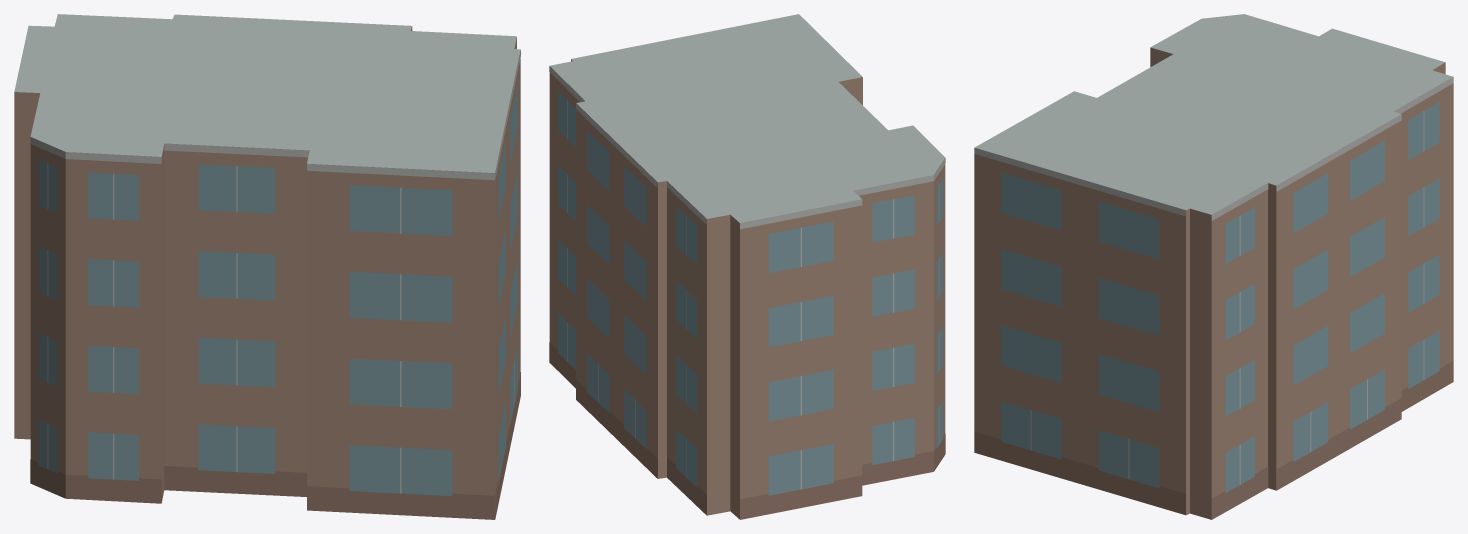
File: survey-upis-32659445.glb
3 renders of one model, left to right at view 1: azimuth 30°, elevation 25°; view 2: azimuth 150°, elevation 25°; view 3: azimuth 270°, elevation 25°, orthographic. The views are drawn at different scales.
Parts seen in each view (by area): view 1: survey-upis-32659445.tmp; view 2: survey-upis-32659445.tmp; view 3: survey-upis-32659445.tmp.
Boxes of the visible parts, x1,y1,x2,y2 form: survey-upis-32659445.tmp: (14,14,520,519); survey-upis-32659445.tmp: (549,14,945,519); survey-upis-32659445.tmp: (974,14,1453,519).
Size of the model in its own units: 16.81 by 11.9 by 16.95.
